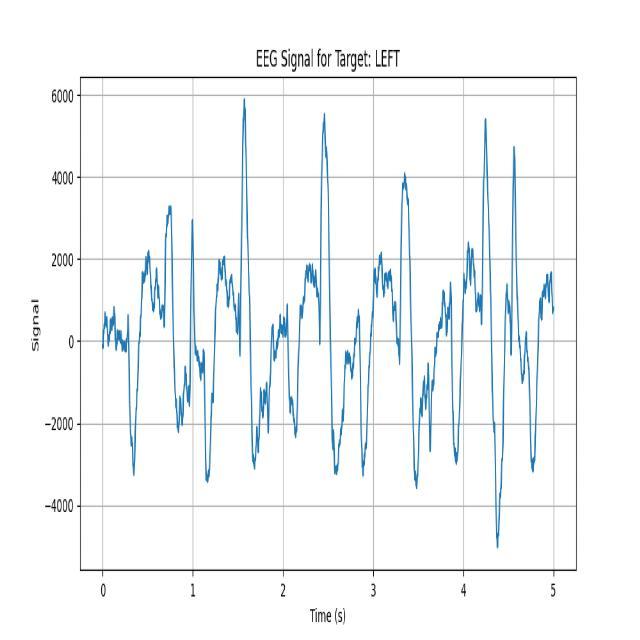LEFT: (434, 97, 510, 551), (355, 95, 436, 508), (201, 91, 278, 504), (278, 91, 355, 502)
